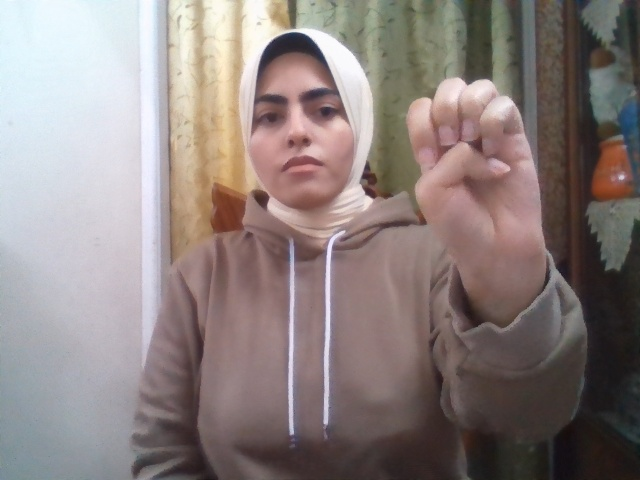E: (407, 78, 543, 273)
